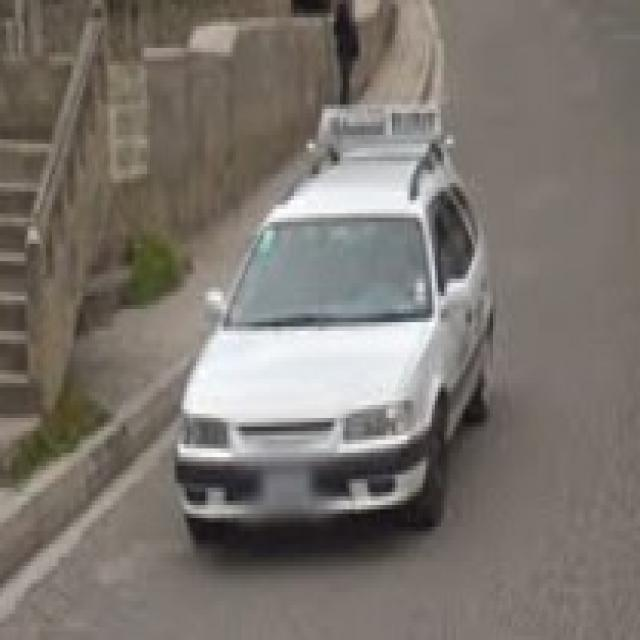cars: (180, 122, 500, 539)
